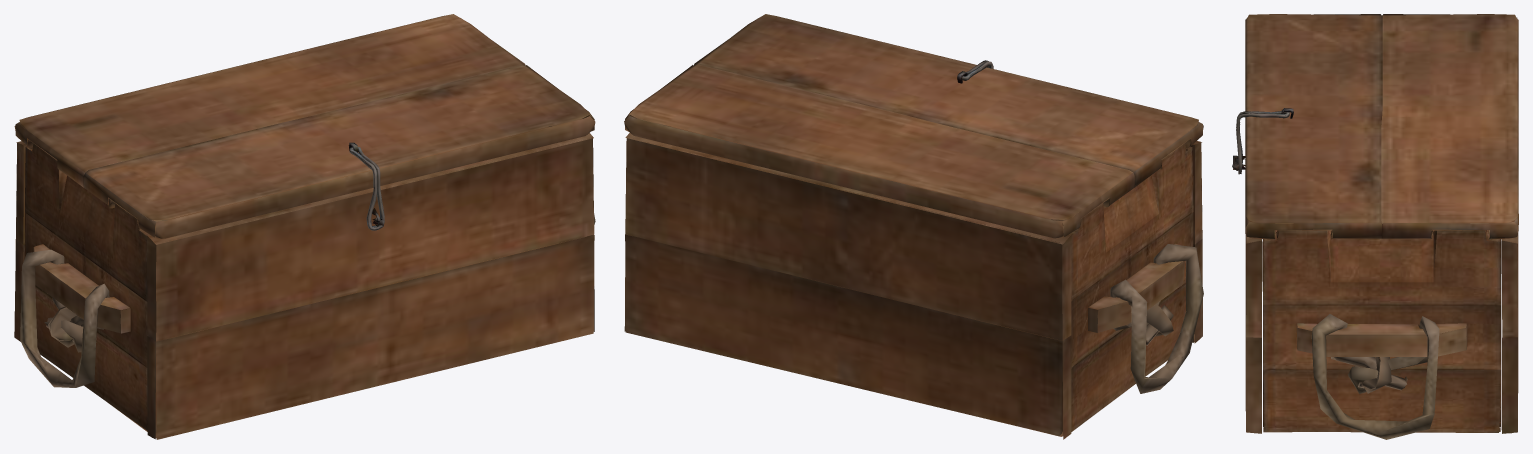
File: kf_crate_a.glb
The picture shows the model from 3 angles, left to right: view 1: azimuth 30°, elevation 25°; view 2: azimuth 150°, elevation 25°; view 3: azimuth 270°, elevation 25°; orthographic projection. The views are drawn at different scales.
Parts seen in each view (by area): view 1: wooden_crate_01, wooden_crate_01_lid, wooden_crate_01_latch; view 2: wooden_crate_01, wooden_crate_01_lid; view 3: wooden_crate_01_lid, wooden_crate_01, wooden_crate_01_latch.
Boxes of the visible parts, <box> form: wooden_crate_01: <box>14,133,595,439</box>; wooden_crate_01_lid: <box>14,14,595,238</box>; wooden_crate_01_latch: <box>349,147,384,230</box>; wooden_crate_01: <box>624,133,1203,439</box>; wooden_crate_01_lid: <box>624,14,1203,238</box>; wooden_crate_01_lid: <box>1245,14,1518,239</box>; wooden_crate_01: <box>1232,155,1518,439</box>; wooden_crate_01_latch: <box>1236,111,1289,174</box>.
Size of what is drawn, in the model's own units: 0.8222 by 0.3477 by 0.4075.
1 material, 1 textured.
